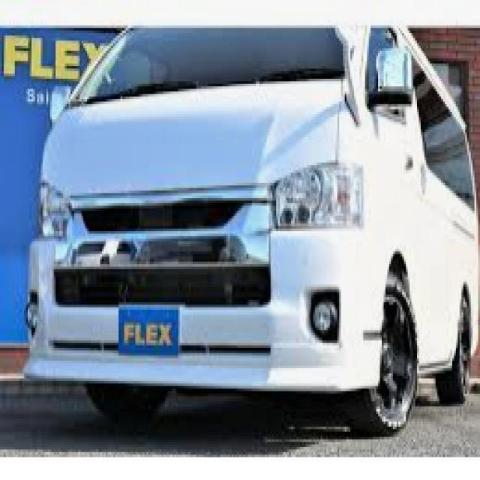van: (28, 28, 480, 432)
